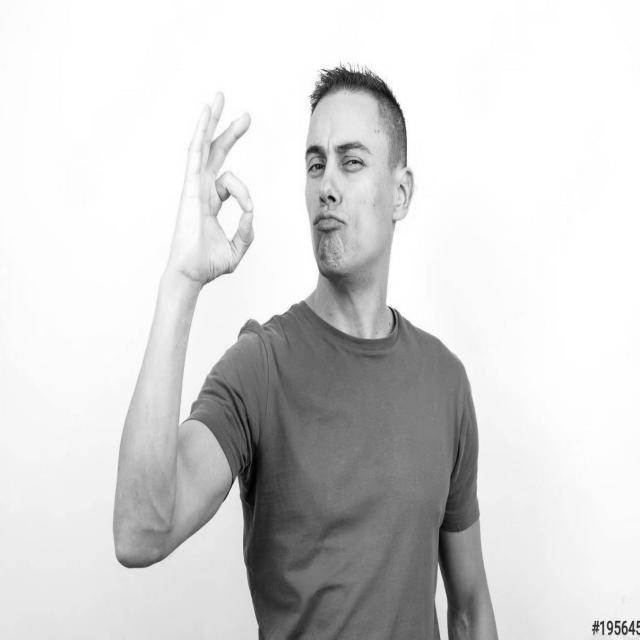perfect: (162, 81, 259, 293)
